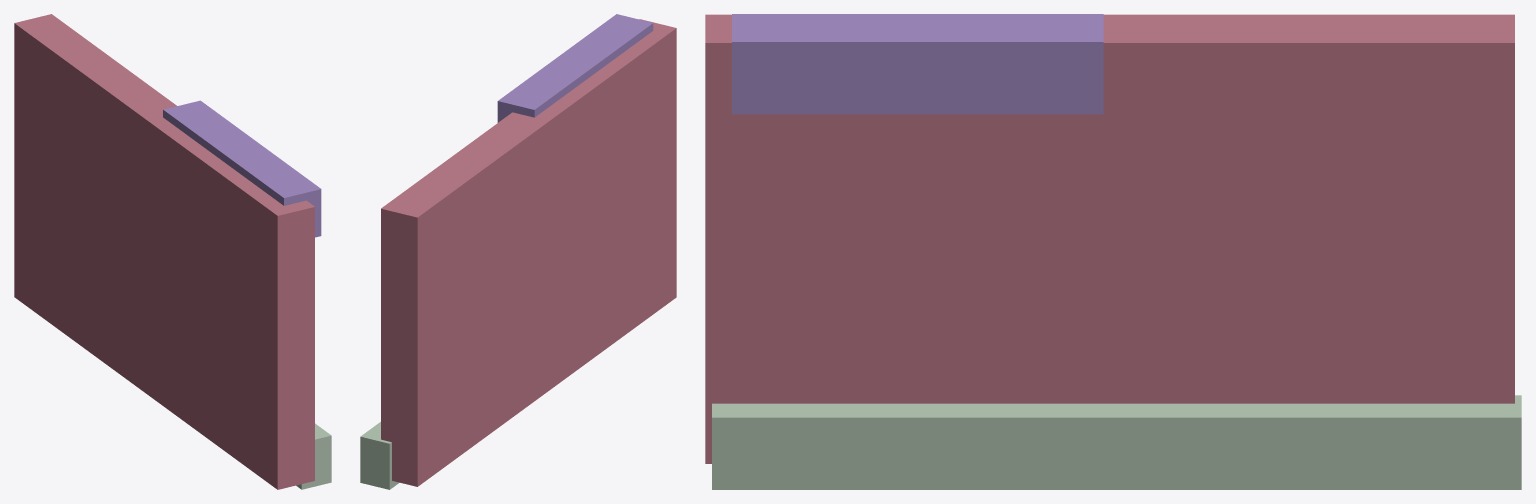
The model's file is 199506_pred.glb.
The picture shows the model from 3 angles, left to right: view 1: azimuth 30°, elevation 25°; view 2: azimuth 150°, elevation 25°; view 3: azimuth 270°, elevation 25°; orthographic projection. The views are drawn at different scales.
Visible parts, largest first — view 1: world; view 2: world; view 3: world.
Boxes of the visible parts, bbox=[...] form: world: bbox=[14, 14, 331, 489]; world: bbox=[360, 14, 676, 489]; world: bbox=[705, 14, 1521, 489].
Bounding box in the file's own units: 0.75 × 3.7 × 6.15.
